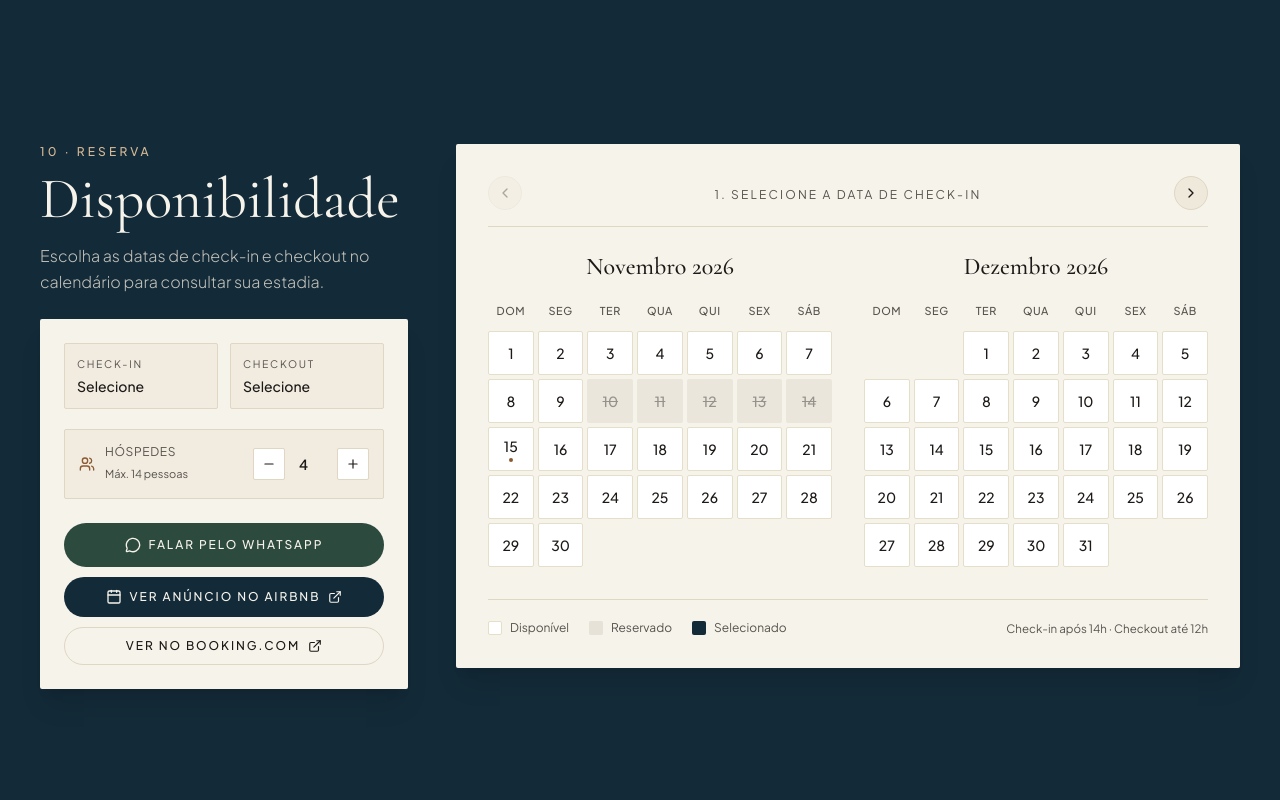
Test: Interface Visual, Navegação, Galeria e Calendário Interativo › bloqueia datas indisponíveis no calendário e respeita a semântica de checkout exclusivo
The width and height of the screenshot is (1280, 800).
Expected: the button "10" below "Novembro" is disabled, top-left (587, 379), bottom-right (633, 423)
Expected: the button "12" below "Novembro" is disabled, top-left (687, 379), bottom-right (732, 423)
Click the button "8" below "Novembro" at coordinates (511, 401), box top-left (488, 379), bottom-right (534, 423)
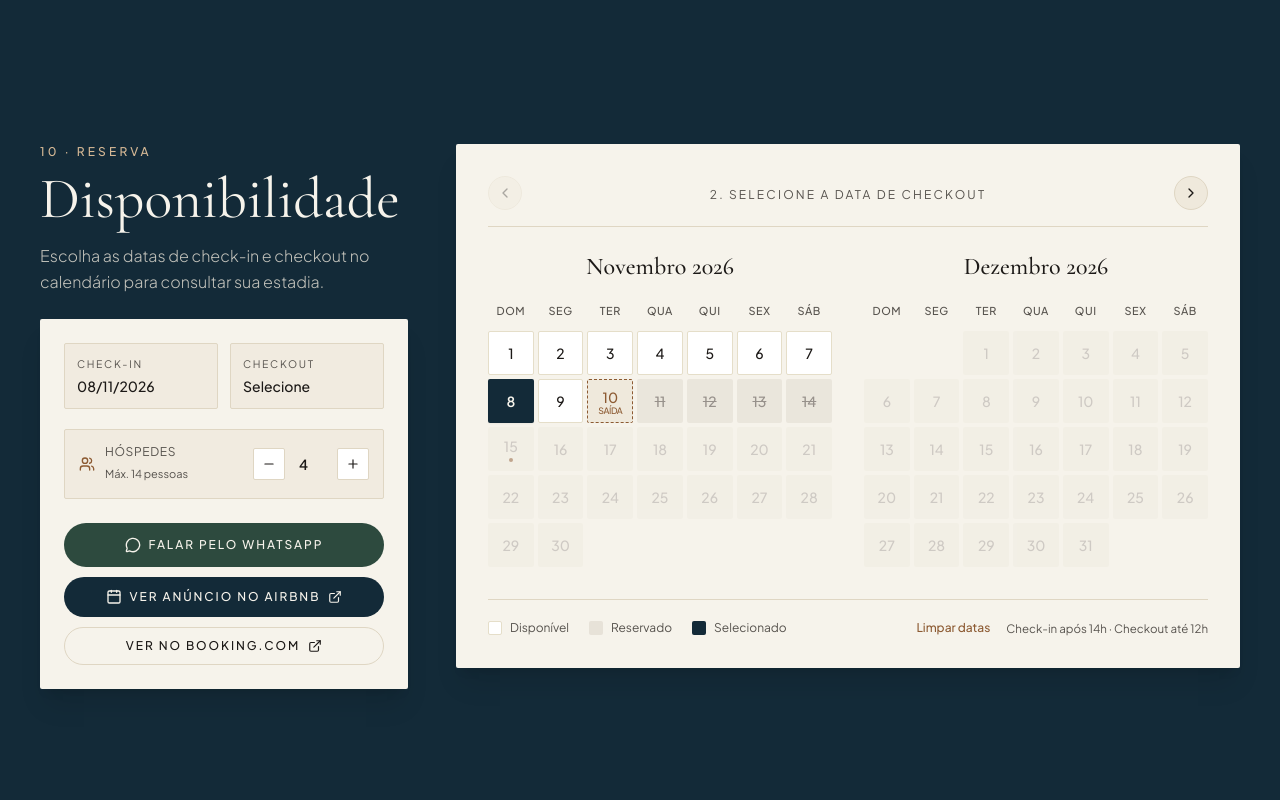
Result: the text with test id "selected-checkin" reads "08/11/2026" at top-left (77, 377), bottom-right (155, 395)
Result: the button "10 Saída" is enabled
Result: the button "15" below "Novembro" is disabled at top-left (488, 427), bottom-right (534, 471)
Note: Seleciona checkout no dia 10/11 (2 noites: 08 e 09)
Click the button "10 Saída" at coordinates (610, 401), box top-left (587, 379), bottom-right (633, 423)
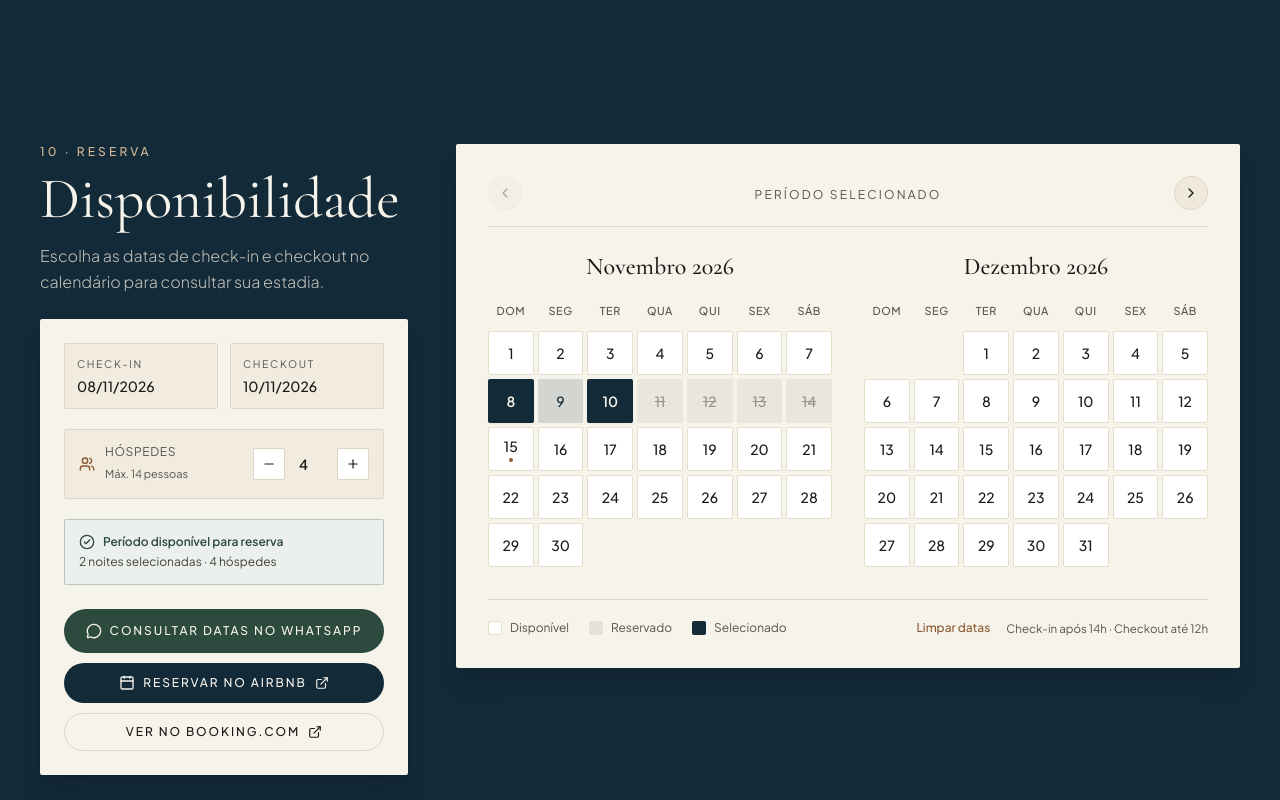
Result: the text with test id "selected-checkout" reads "10/11/2026" at top-left (243, 377), bottom-right (317, 395)
Result: the element with test id "stay-summary" shows "2 noites selecionadas" at top-left (64, 519), bottom-right (384, 585)
Click the button "15" below "Novembro" at coordinates (511, 449), box top-left (488, 427), bottom-right (534, 471)
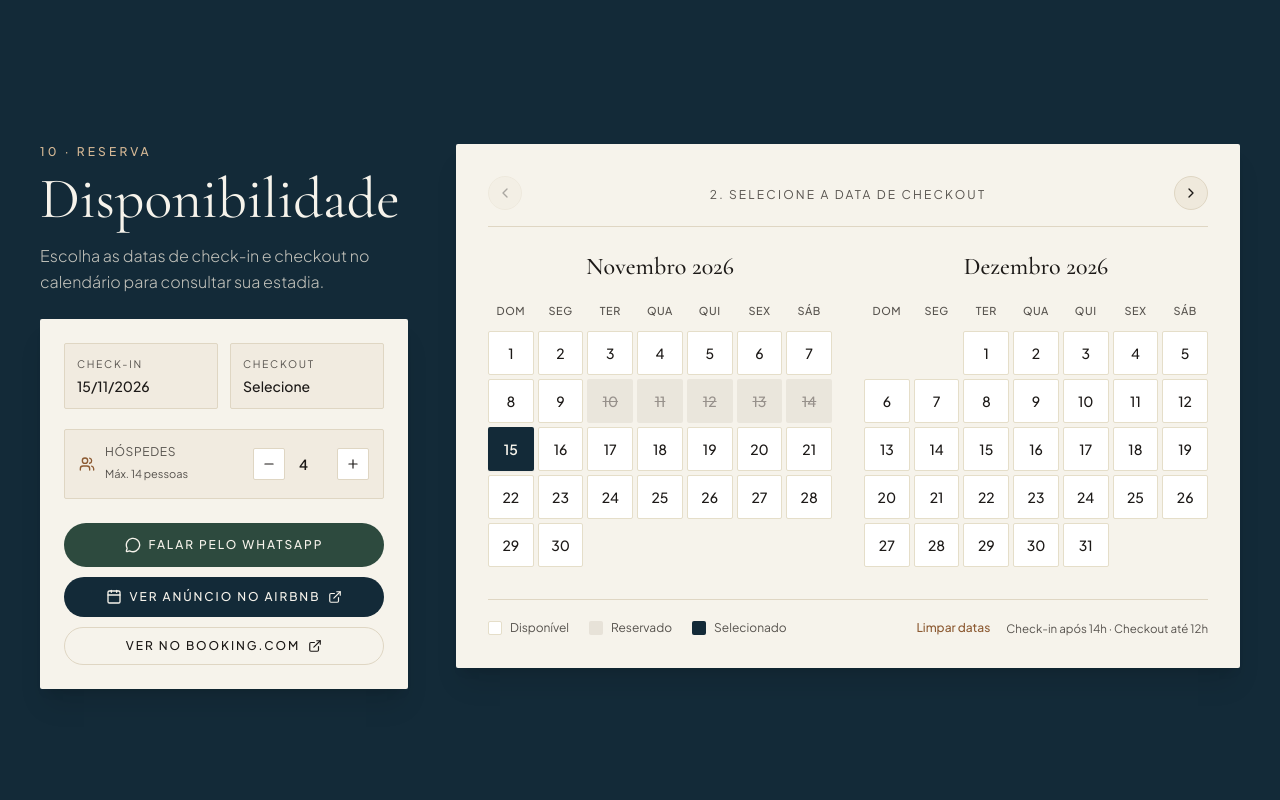
Result: the text with test id "selected-checkin" reads "15/11/2026" at top-left (77, 377), bottom-right (150, 395)
Click the button "18" below "Novembro" at coordinates (660, 449), box top-left (637, 427), bottom-right (683, 471)
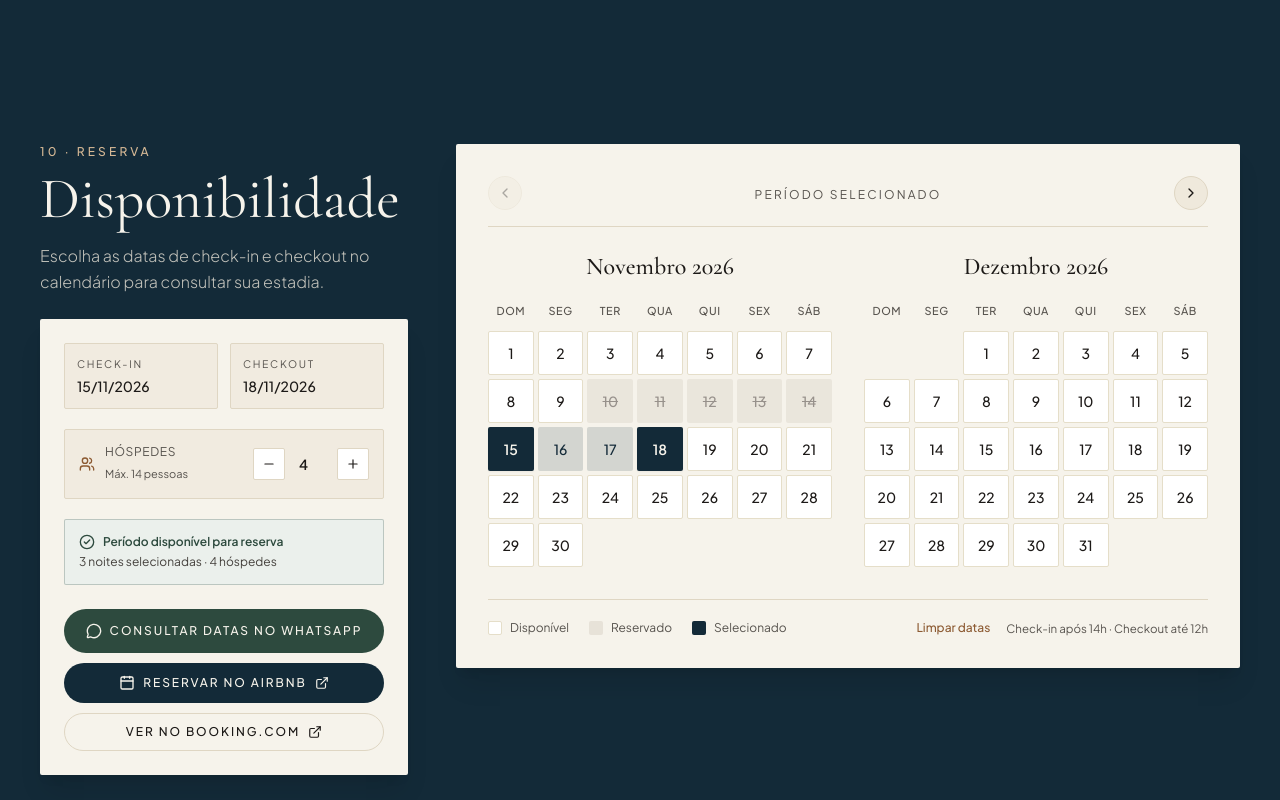
Result: the text with test id "selected-checkout" reads "18/11/2026" at top-left (243, 377), bottom-right (316, 395)
Result: the element with test id "stay-summary" shows "3 noites selecionadas" at top-left (64, 519), bottom-right (384, 585)
